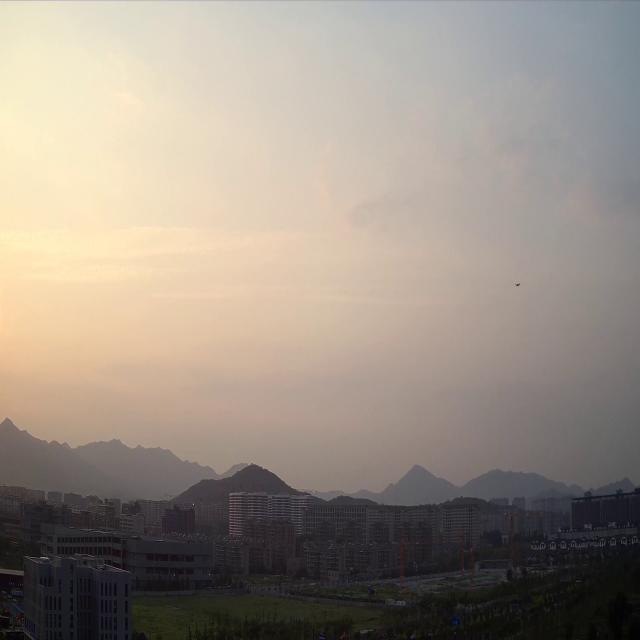drone: (516, 282, 521, 286)
